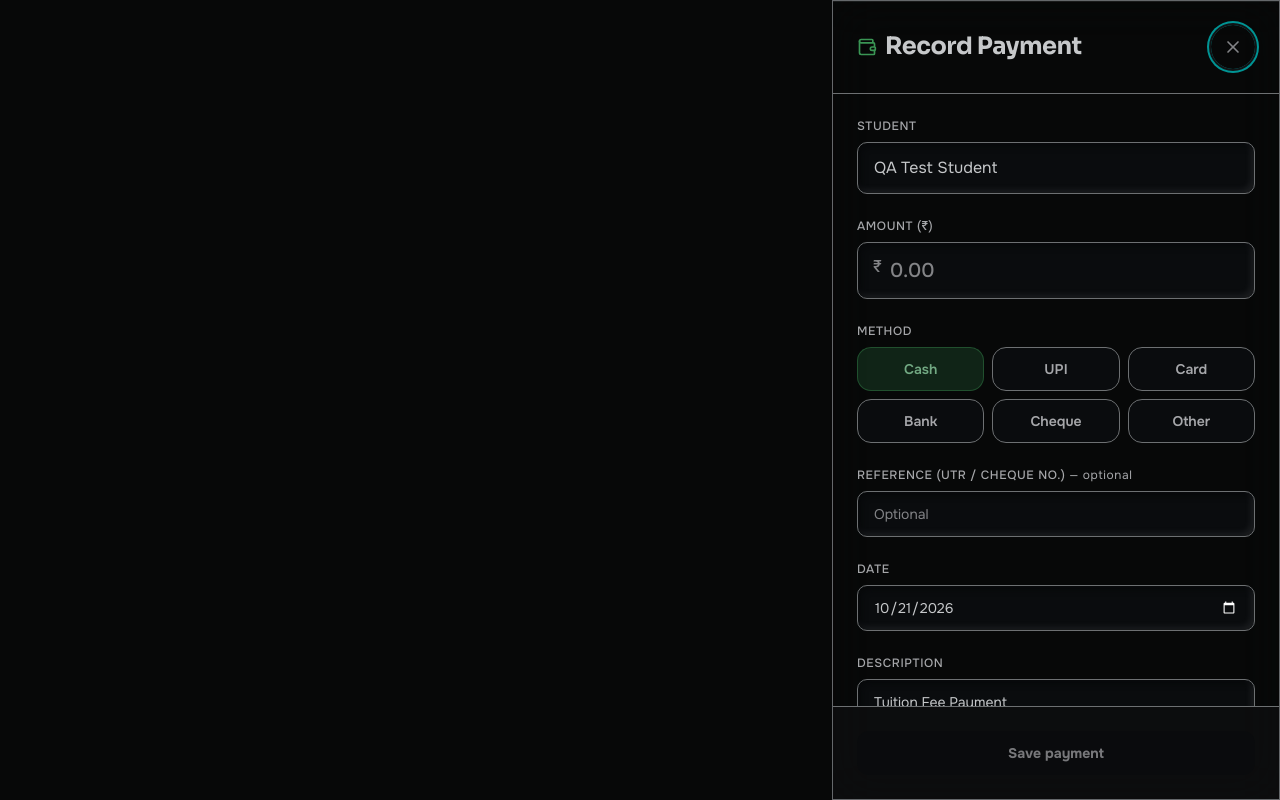
it: RecordPaymentSheet — refusals are stated in words (07 §6.4, Rule 9) › enables Save and previews the amount in formatINR for a valid amount
In the field labelled "Amount (₹)": x=1056, y=270 [857,242,1255,299], type "1500"
(page scrolled)
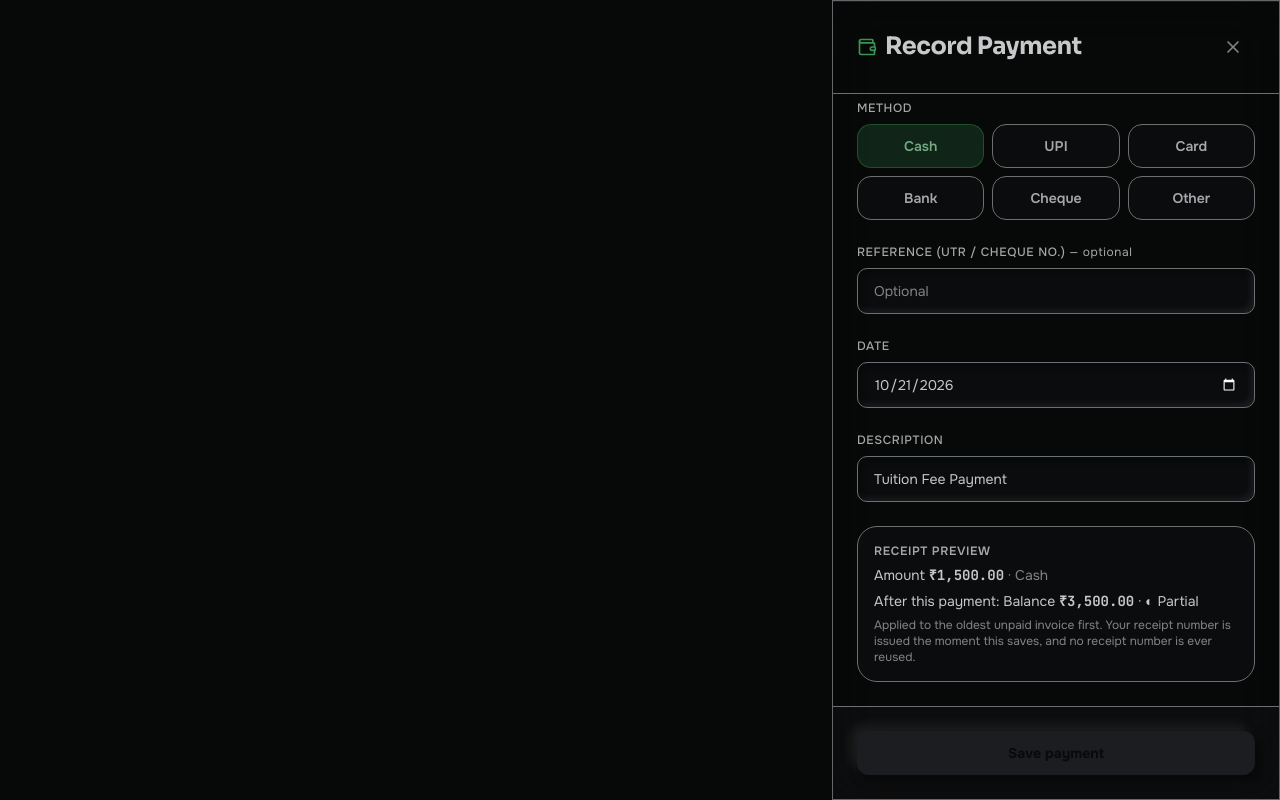
Now the text "₹1,500.00" is shown, box [929,566,1004,584]
Now the text "receipt number is issued the moment this saves" is shown, box [874,617,1231,665]
